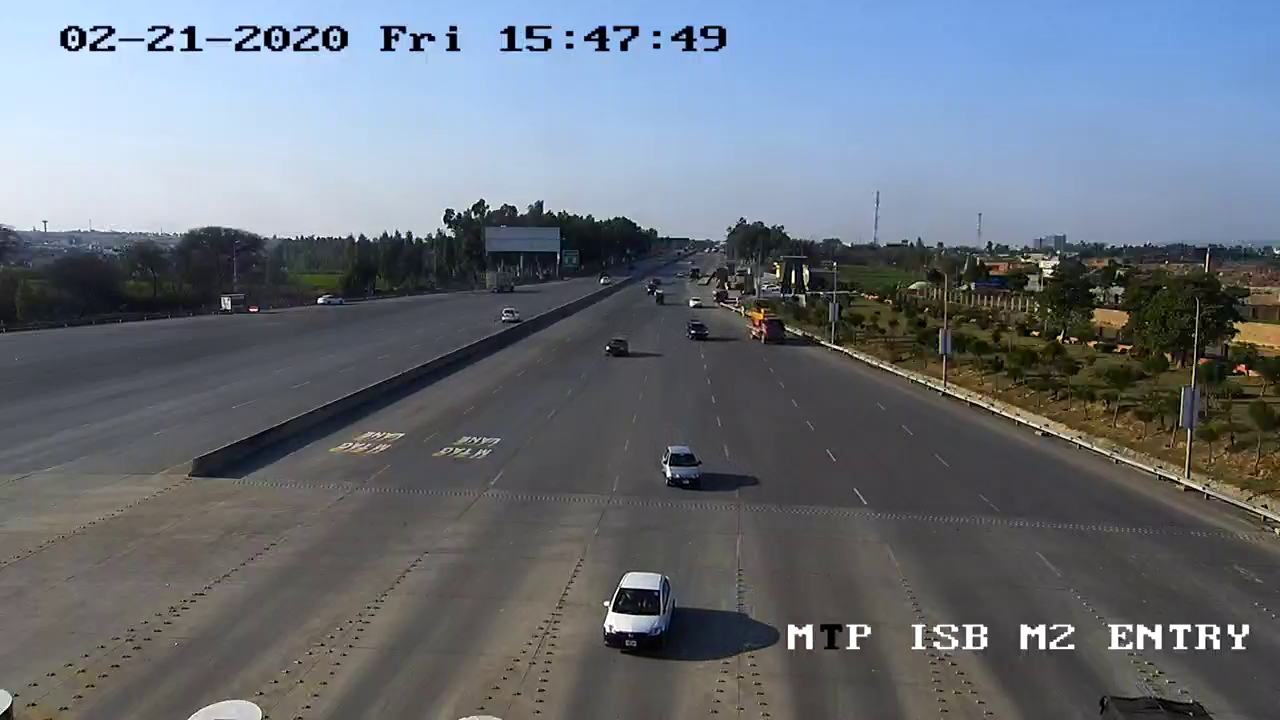f1: (594, 564, 682, 657), (652, 445, 709, 498)
